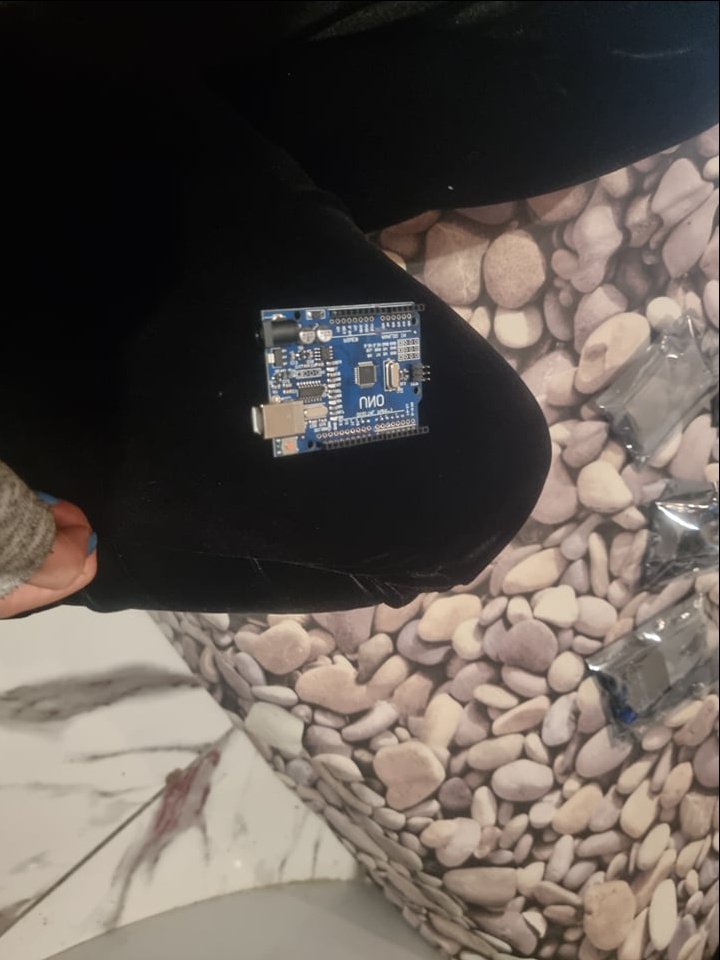UNO R3: (253, 297, 432, 460)
